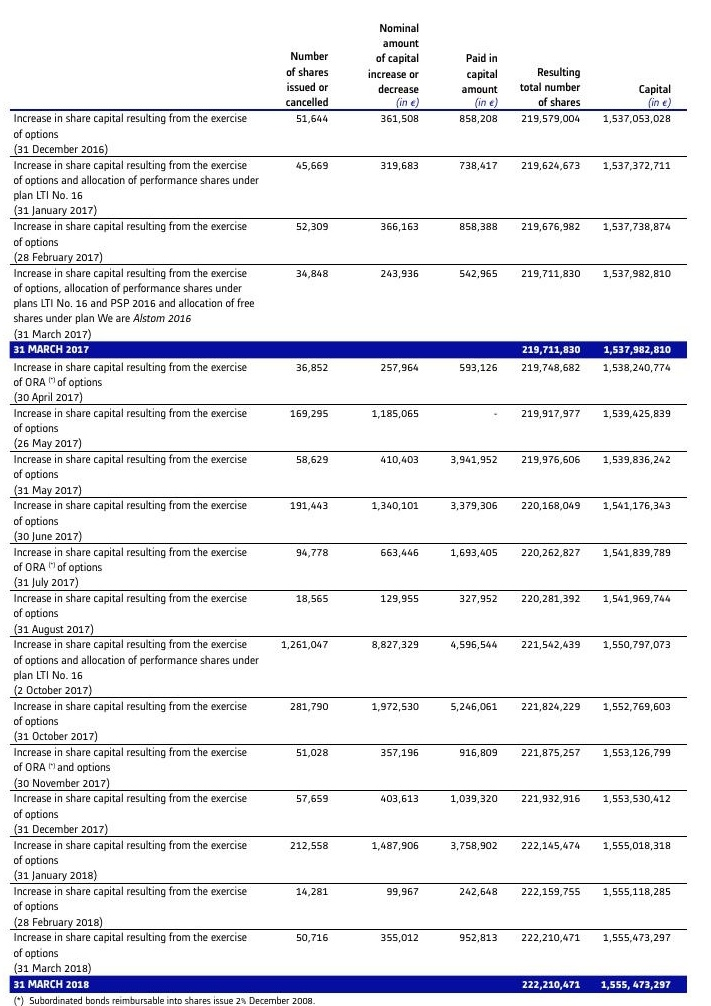table: (0, 0, 711, 1006)
